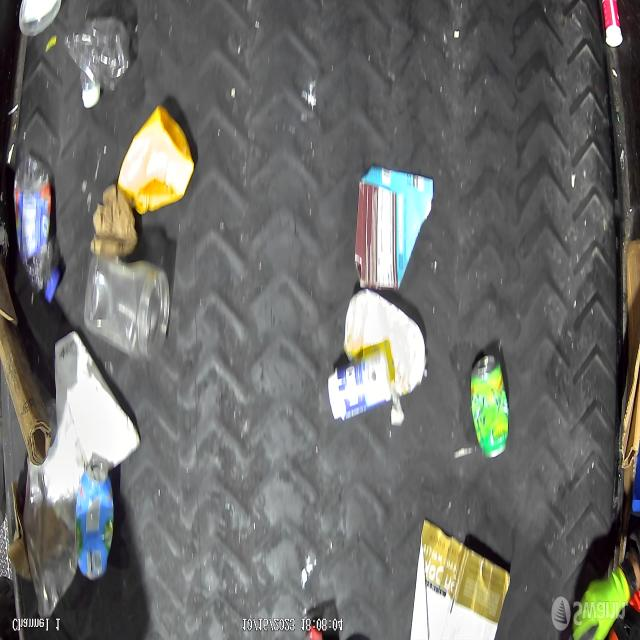can: (471, 356, 509, 456)
non_white_jug: (117, 104, 193, 214)
plastic_bottle: (13, 156, 62, 308), (65, 20, 134, 109)
